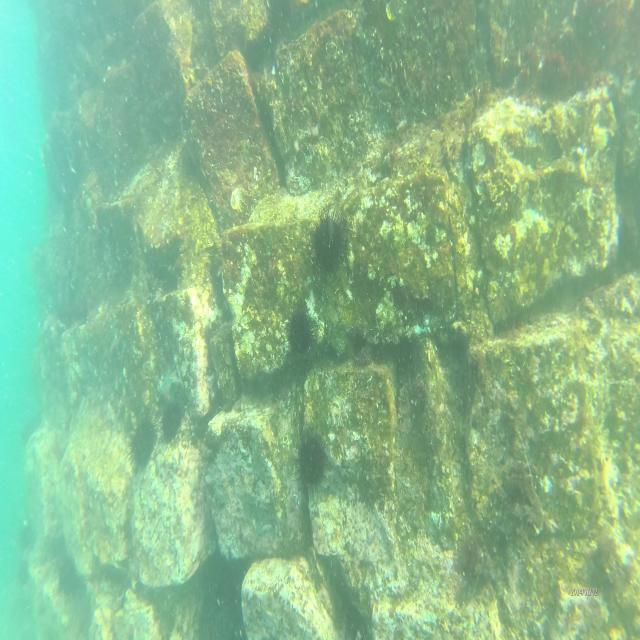echinus: (291, 423, 330, 495), (280, 298, 320, 364), (311, 206, 349, 275), (125, 418, 158, 470), (57, 555, 83, 596), (162, 398, 181, 442), (15, 522, 40, 552), (15, 561, 32, 583)
